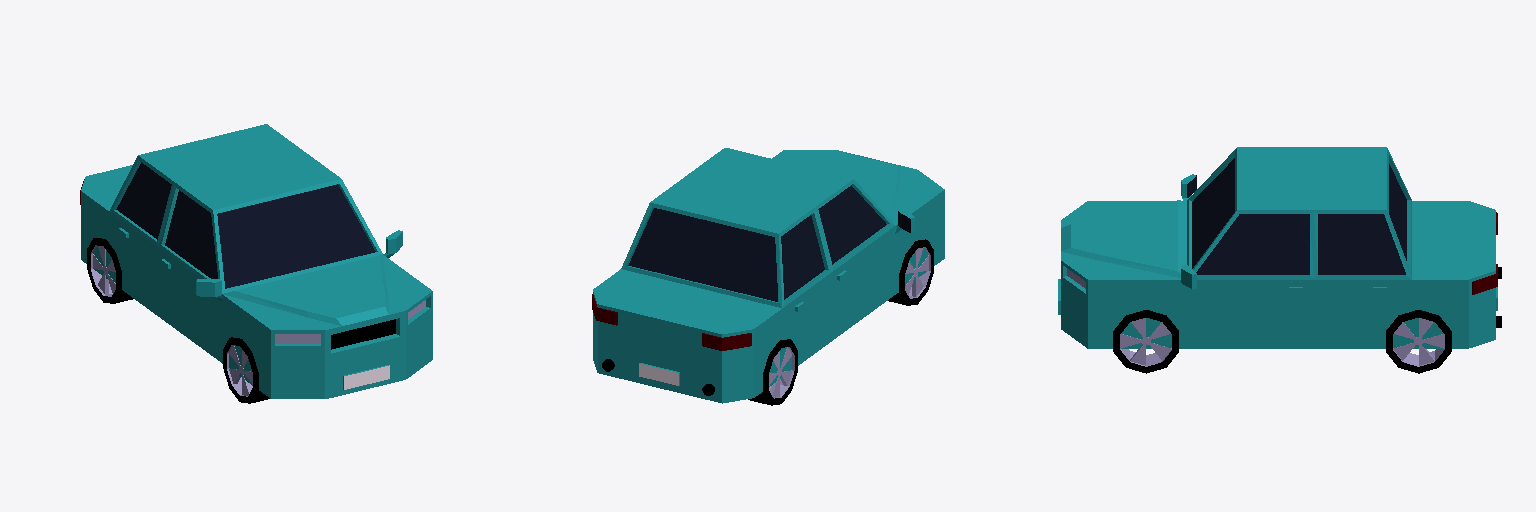
3 renders of one model, left to right at view 1: azimuth 30°, elevation 25°; view 2: azimuth 150°, elevation 25°; view 3: azimuth 270°, elevation 25°, orthographic.
Visible parts, largest first — view 1: Sedan, Sedan_wheel_rear_right, Sedan_wheel_front_right; view 2: Sedan, Sedan_wheel_rear_right, Sedan_wheel_front_right; view 3: Sedan, Sedan_wheel_rear_left, Sedan_wheel_front_left.
Boxes of the visible parts, box(x1,y1,x2,y2) form: Sedan: box(80, 124, 432, 398); Sedan_wheel_rear_right: box(87, 238, 133, 303); Sedan_wheel_front_right: box(223, 337, 269, 403); Sedan: box(592, 148, 944, 403); Sedan_wheel_rear_right: box(748, 339, 797, 405); Sedan_wheel_front_right: box(888, 239, 933, 305); Sedan: box(1058, 147, 1501, 348); Sedan_wheel_rear_left: box(1386, 310, 1451, 373); Sedan_wheel_front_left: box(1113, 310, 1178, 373).
Size of the model in its own units: 2.81 by 2.01 by 5.23.
Materials: 8 (1 with a texture image).